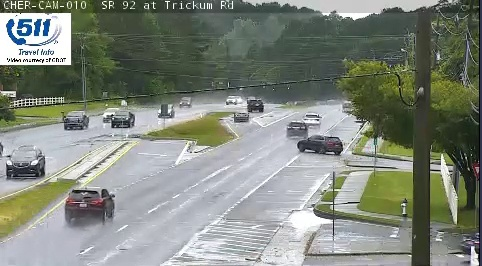car: (65, 187, 114, 220), (287, 121, 308, 137), (302, 113, 321, 127)
